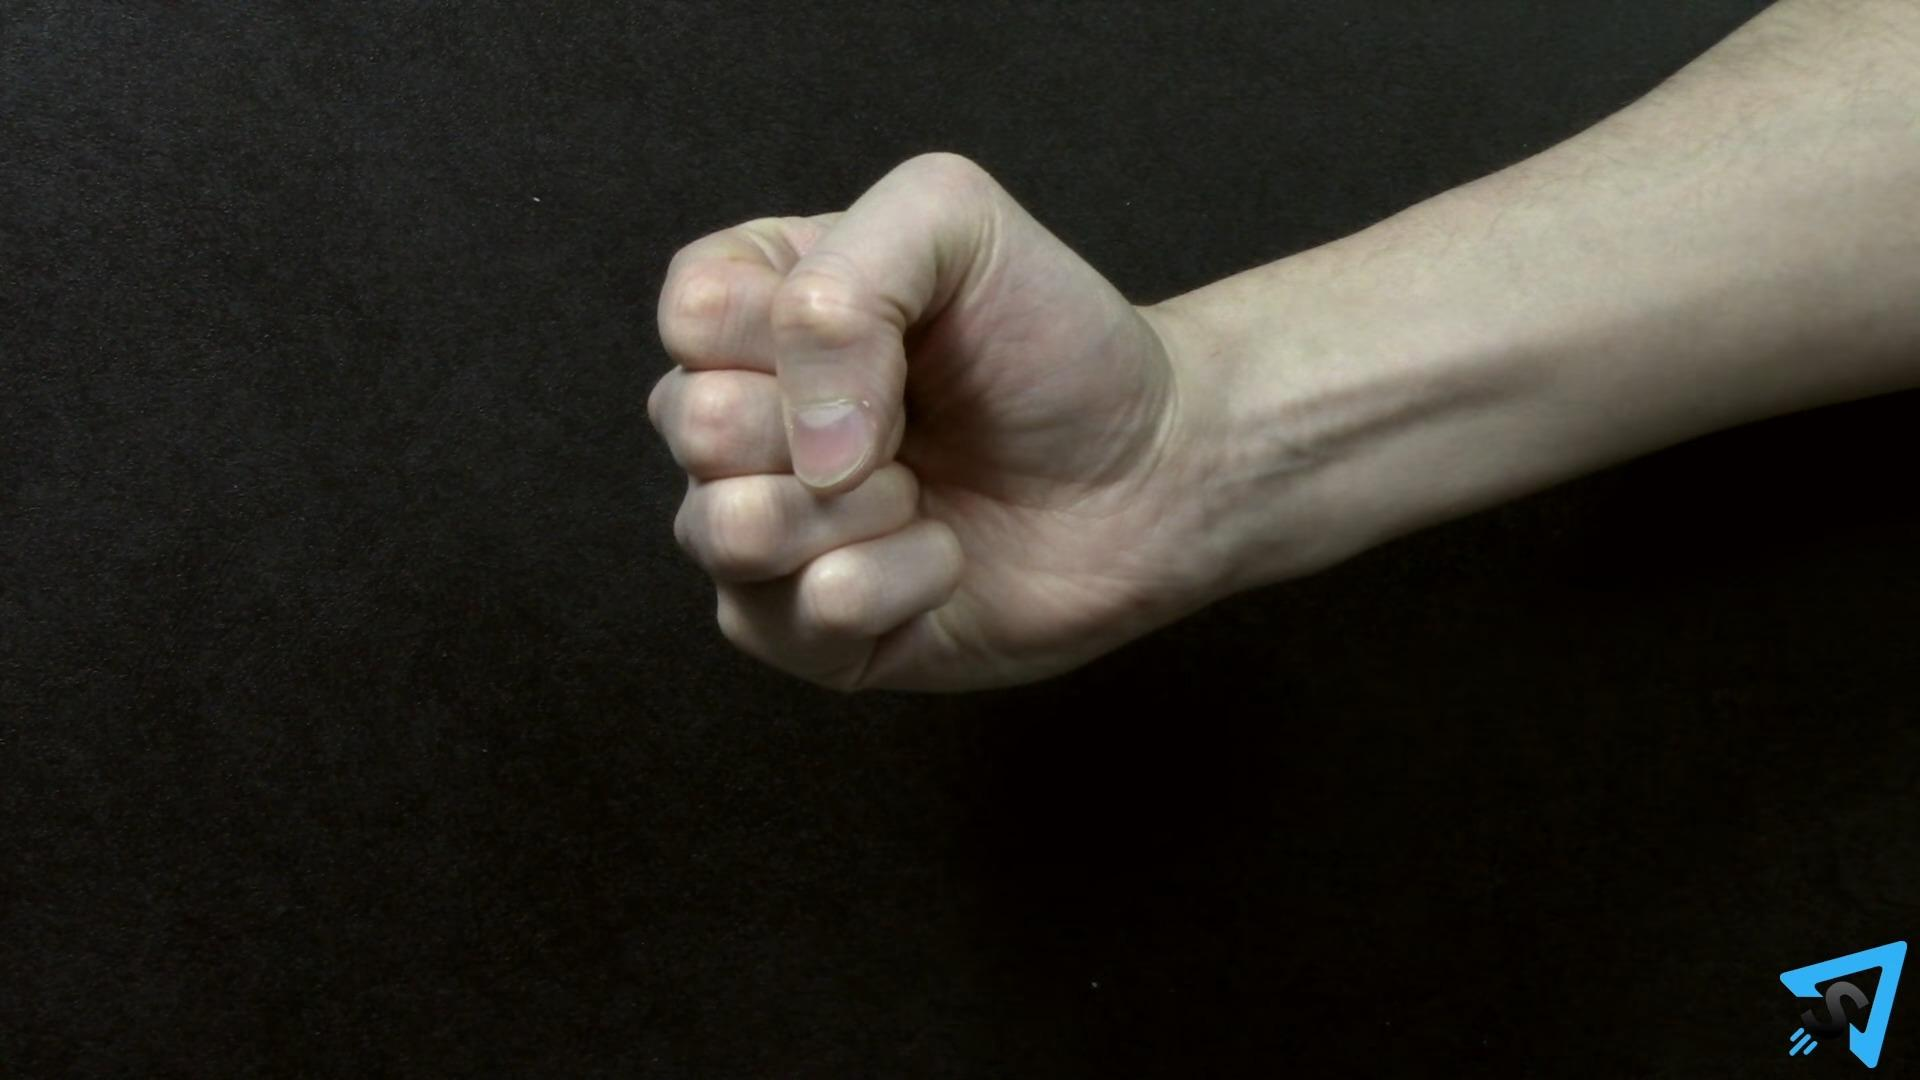Rock: (647, 140, 1187, 700)
